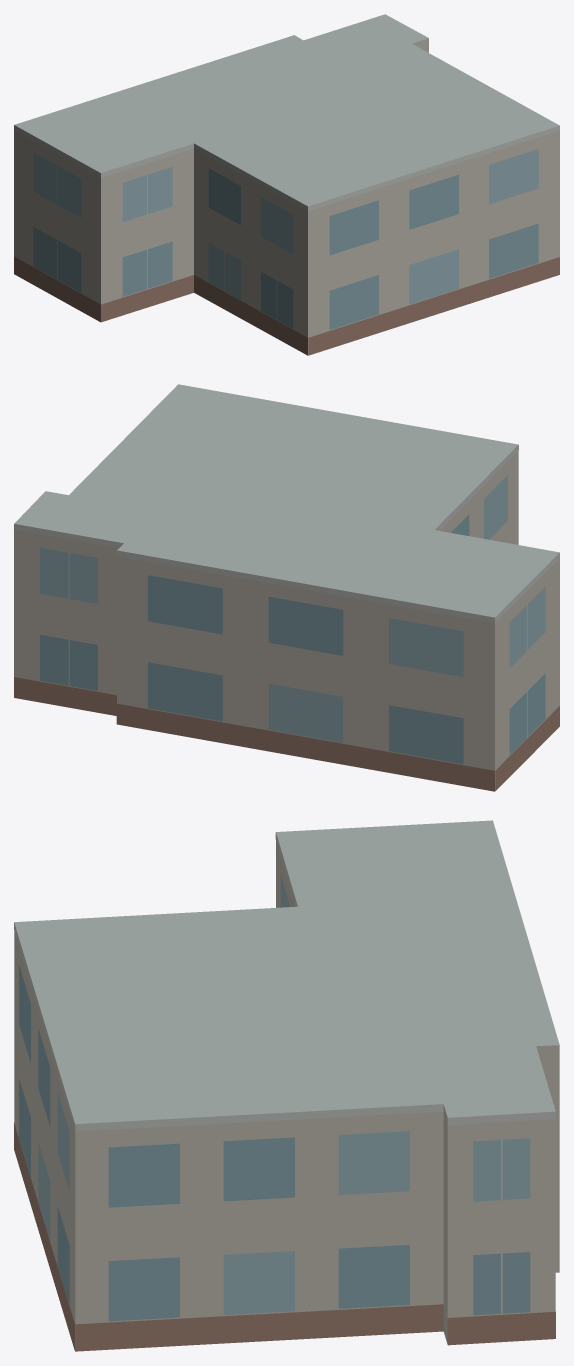
Rendered from survey-upis-32834182.glb.
3 views of the same model, one above another, from view 1: azimuth 30°, elevation 25°; view 2: azimuth 150°, elevation 25°; view 3: azimuth 270°, elevation 25° (orthographic). The views are drawn at different scales.
Visible parts, largest first — view 1: survey-upis-32834182.tmp; view 2: survey-upis-32834182.tmp; view 3: survey-upis-32834182.tmp.
Part boxes in pixels (bbox=[...]): survey-upis-32834182.tmp: bbox=[14, 14, 559, 355]; survey-upis-32834182.tmp: bbox=[14, 384, 559, 791]; survey-upis-32834182.tmp: bbox=[14, 820, 559, 1351].
Size of the model in its own units: 21.22 by 7.4 by 16.11.
